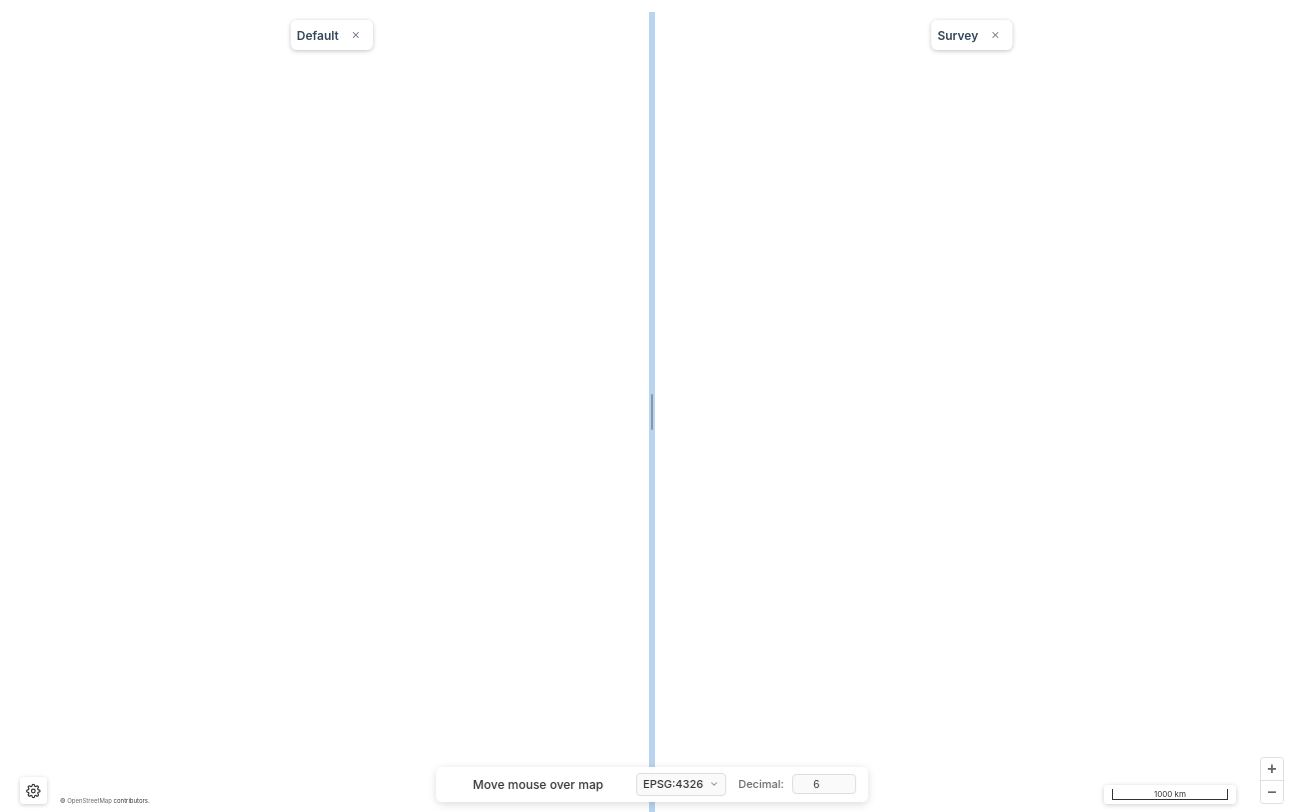
closing a pane makes the other workspace the normal one
The width and height of the screenshot is (1304, 812).
Click the button named "Close left side".
click(356, 35)  # box x1=345 y1=24 x2=367 y2=46
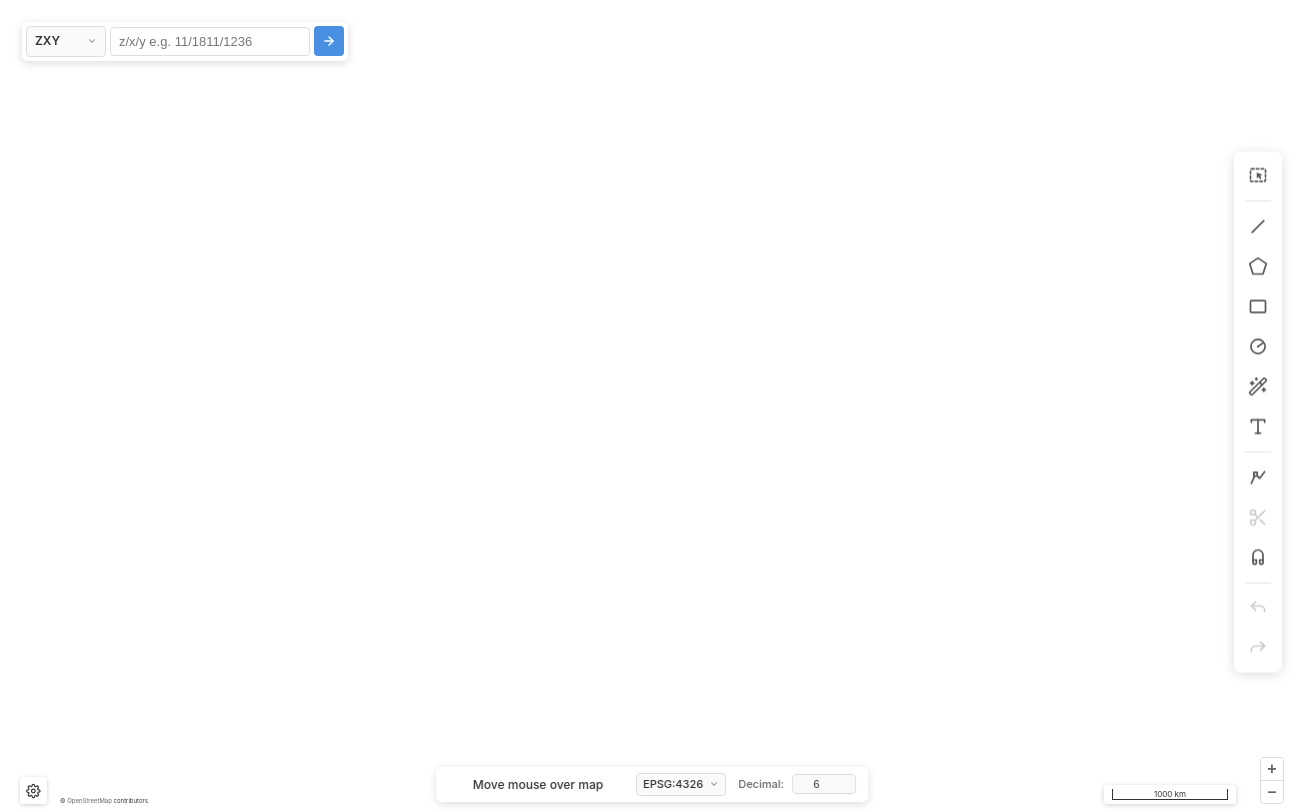
Click the button titled "Settings".
click(33, 791)  # box x1=20 y1=777 x2=47 y2=804
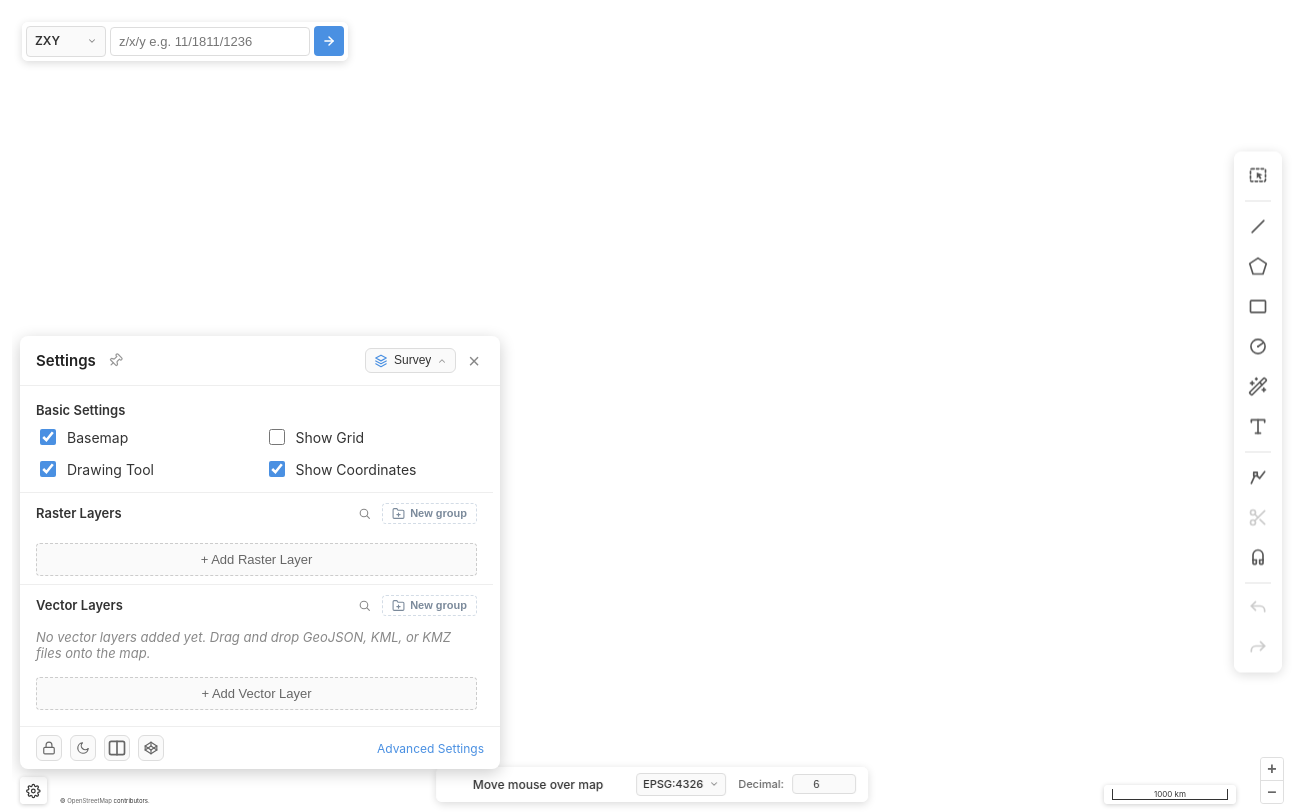
Expected: the button with aria-label "switch workspace — current: Survey" is shown, x1=365 y1=348 x2=456 y2=373
